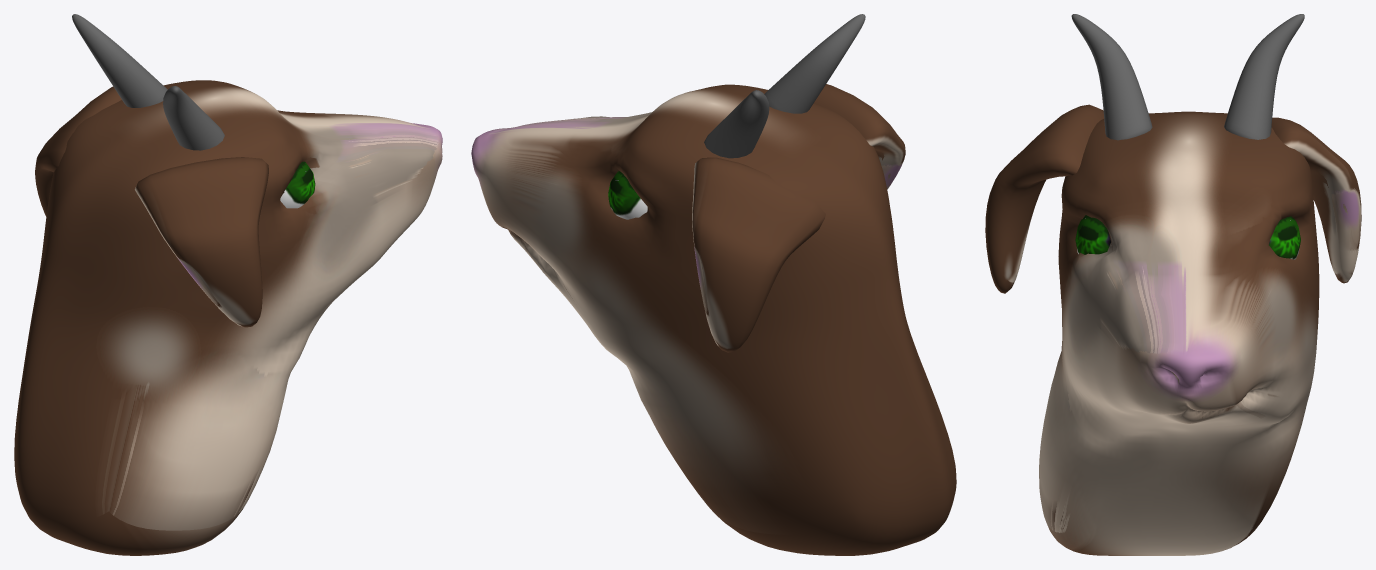
File: goat.gltf
3 renders of one model, left to right at view 1: azimuth 30°, elevation 25°; view 2: azimuth 150°, elevation 25°; view 3: azimuth 270°, elevation 25°, orthographic. The views are drawn at different scales.
Visible parts, largest first — view 1: Cube.004; view 2: Cube.004; view 3: Cube.004.
Part boxes in pixels (x1,y1,x2,y2): Cube.004: (14,14,442,555); Cube.004: (471,14,956,555); Cube.004: (985,14,1361,555).
Size of the model in its own units: 5.05 by 5.23 by 3.37.
3 materials, 2 textured.
